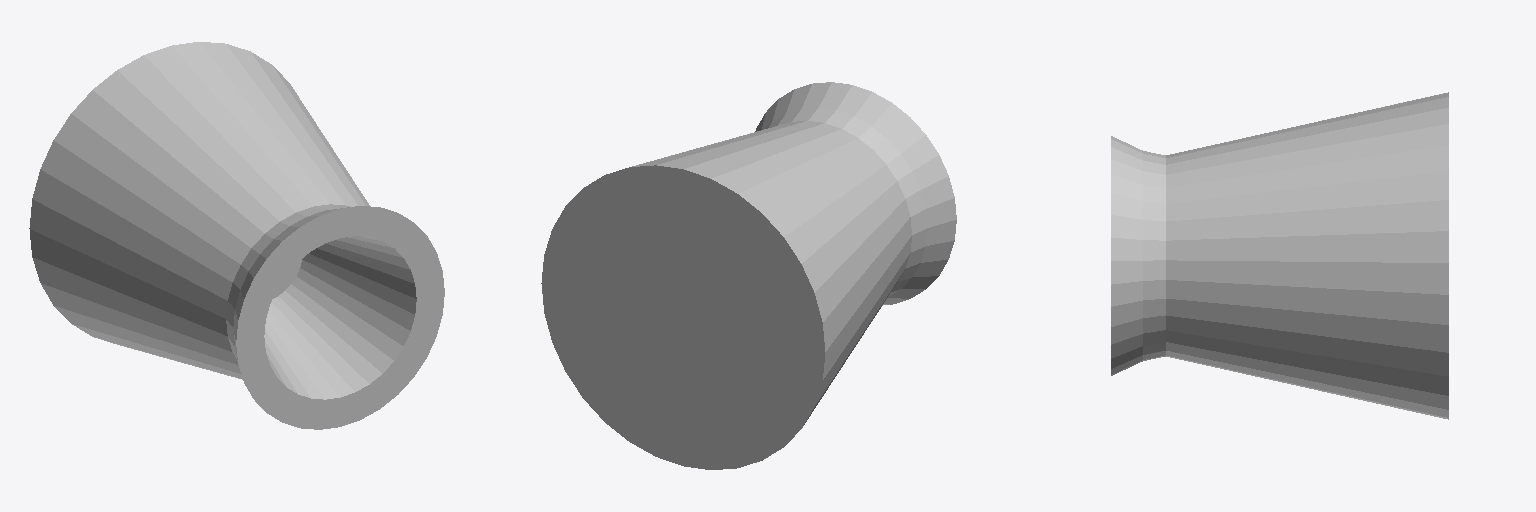
The model's file is centrale.obj.
The picture shows the model from 3 angles: view 1: azimuth 30°, elevation 25°; view 2: azimuth 150°, elevation 25°; view 3: azimuth 270°, elevation 25°; orthographic projection.
Parts seen in each view (by area): view 1: Circle.001; view 2: Circle.001; view 3: Circle.001.
Part boxes in pixels (x1,y1,x2,y2): Circle.001: (29, 42, 444, 429); Circle.001: (541, 82, 956, 469); Circle.001: (1111, 92, 1448, 419).
Bounding box in the file's own units: 47.2 × 47.2 × 48.66.